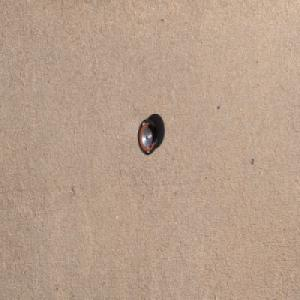FuelCap: (136, 116, 158, 156)
